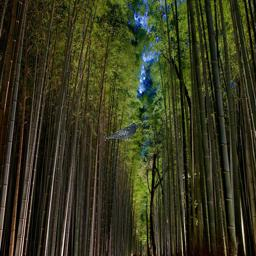Crow: (103, 123, 139, 141)
